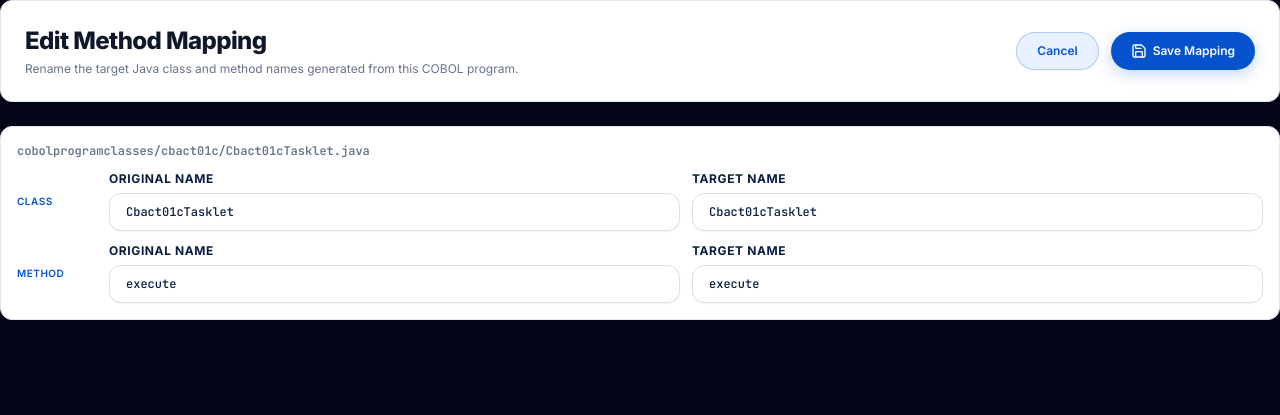
it: MethodMappingPage › lets the user rename a class and saves the real override
The image size is (1280, 415).
Replace the text in the 1st field showing "Cbact01cTasklet" with "AccountLoaderTasklet". click: (978, 212)
box: [692,193,1263,231]
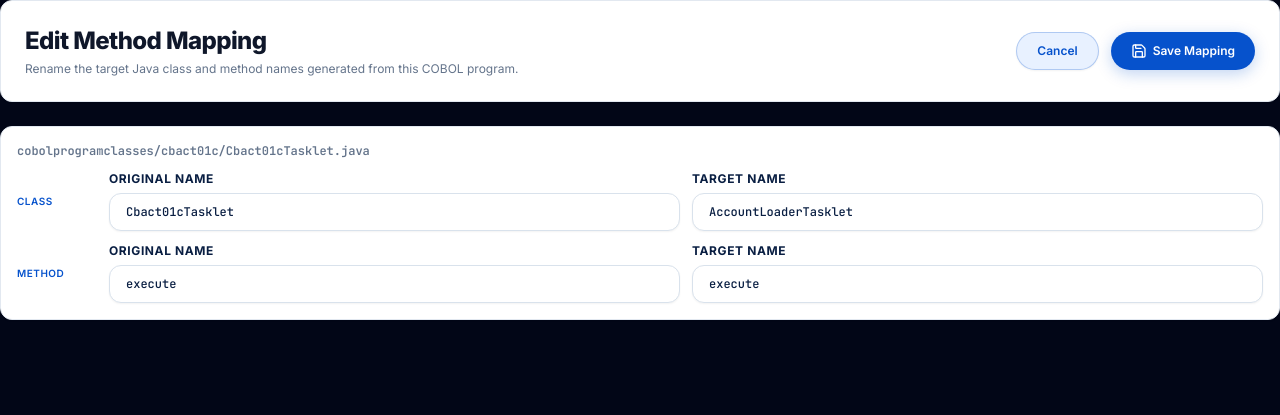
Click the button "Save Mapping". click: (1183, 51)
box: [1111,32,1255,70]
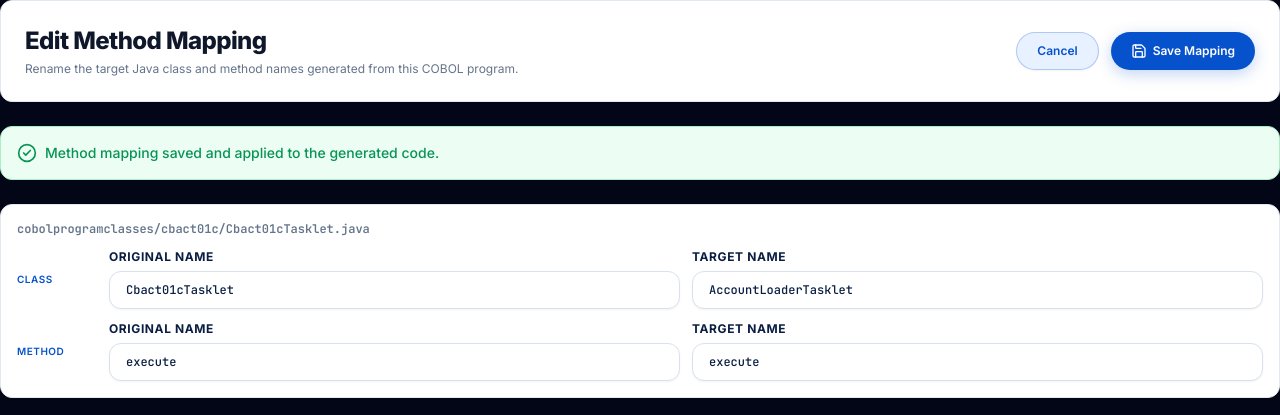
Expected: the text "Method mapping saved and applied to the generated code." is shown, [45,143,439,163]
